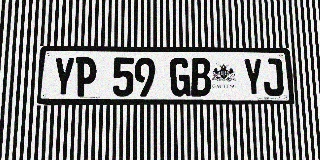5: (113, 57, 134, 96)
9: (134, 58, 155, 96)
B: (190, 58, 211, 96)
G: (170, 58, 190, 96)
J: (262, 58, 284, 96)
P: (75, 57, 97, 97)
Y: (52, 57, 75, 97), (242, 58, 264, 96)
